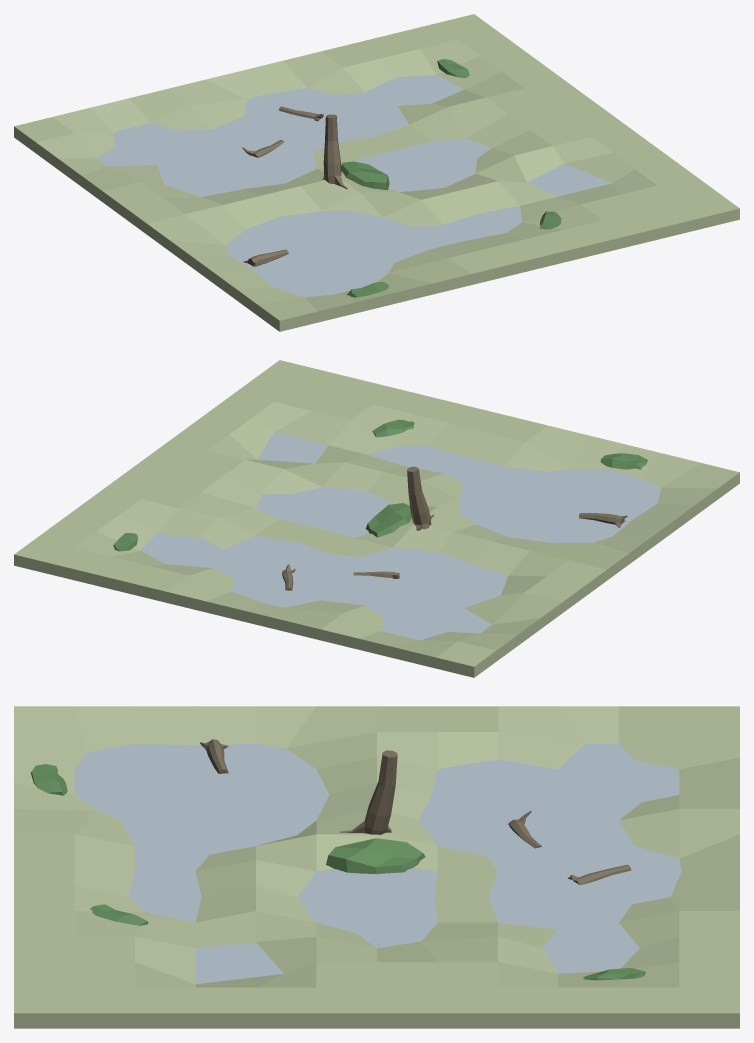
The model's file is Marshland III.fbx.
The picture shows the model from 3 angles, top to bottom: view 1: azimuth 30°, elevation 25°; view 2: azimuth 150°, elevation 25°; view 3: azimuth 270°, elevation 25°; orthographic projection. The views are drawn at different scales.
Visible parts, largest first — view 1: Marshland III; view 2: Marshland III; view 3: Marshland III.
Boxes of the visible parts, <box> form: Marshland III: <box>14,14,739,331</box>; Marshland III: <box>14,360,739,677</box>; Marshland III: <box>14,706,739,1028</box>.
Bounding box in the file's own units: 1600 × 264 × 1600.
